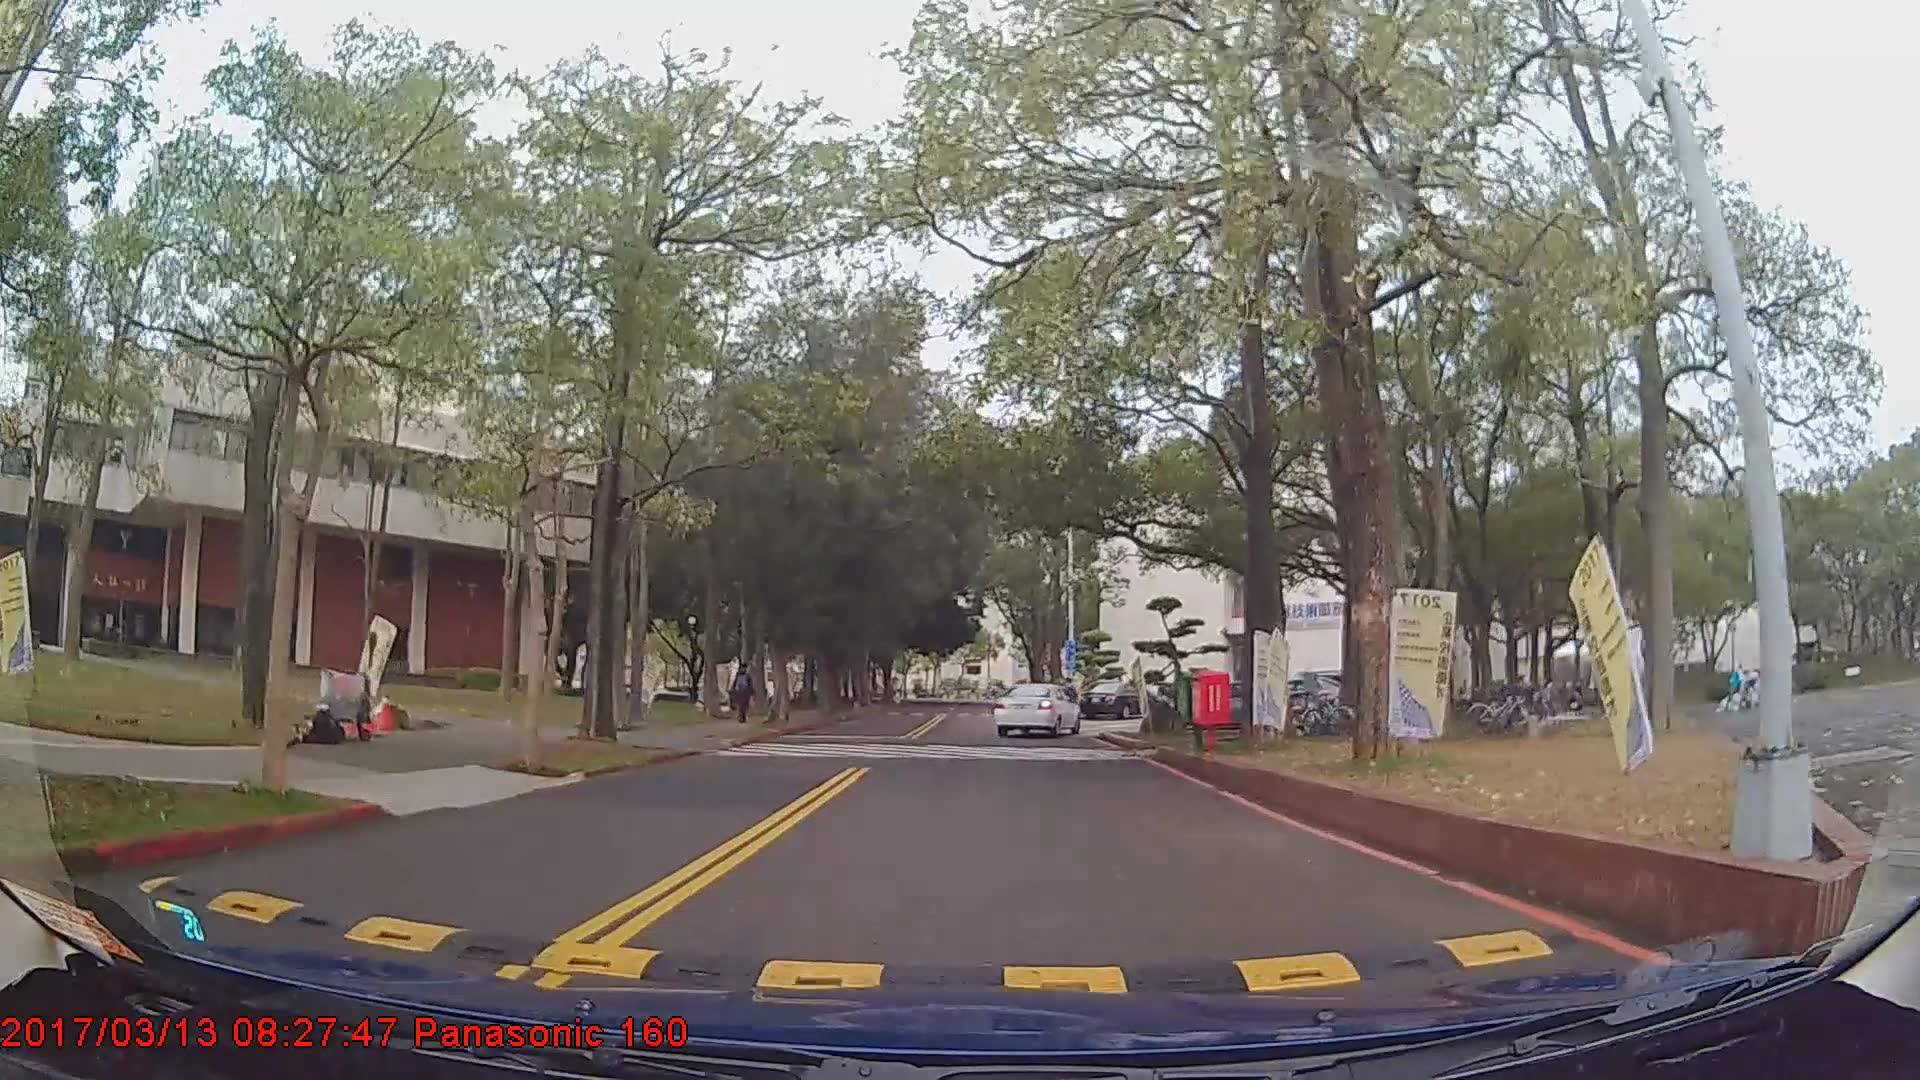pedestrian: (732, 663, 759, 725)
vehicle: (993, 680, 1081, 739), (1074, 680, 1152, 720)
